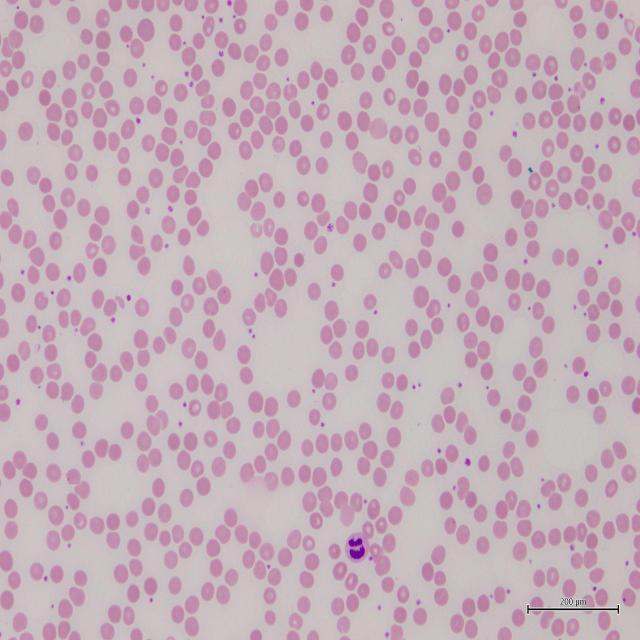cell: (345, 532, 369, 562)
